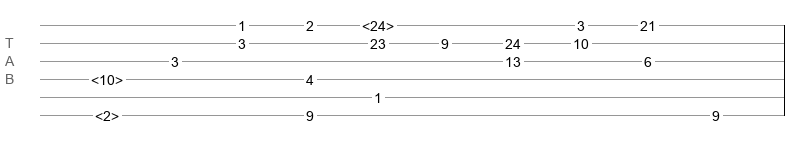1: (238, 18, 246, 28), (374, 90, 382, 100)
10: (573, 36, 589, 46)
13: (505, 54, 521, 64)
2: (306, 18, 314, 28)
21: (640, 18, 656, 28)
23: (370, 36, 386, 46)
24: (505, 36, 521, 46)
3: (171, 54, 179, 64), (238, 36, 246, 46), (577, 18, 585, 28)
4: (306, 72, 314, 82)
6: (644, 54, 652, 64)
9: (306, 108, 314, 118), (441, 36, 449, 46), (712, 108, 720, 118)
harmonic: (91, 72, 123, 82), (362, 18, 394, 28), (95, 108, 119, 118)
